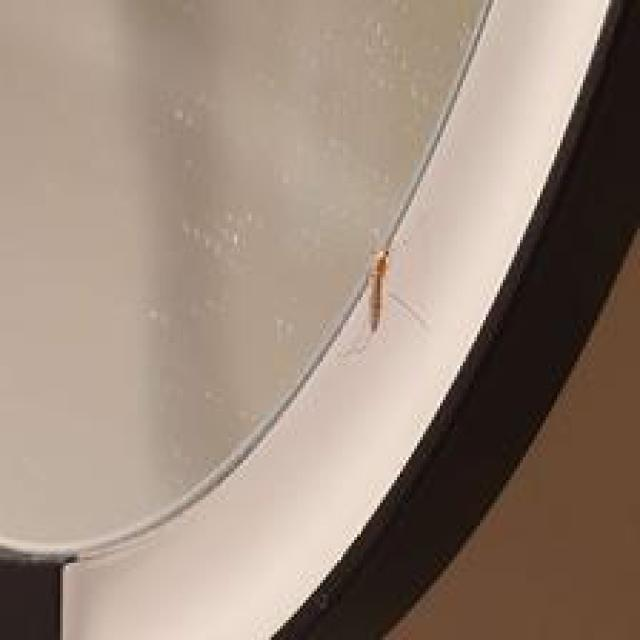Culex: (337, 246, 429, 363)
